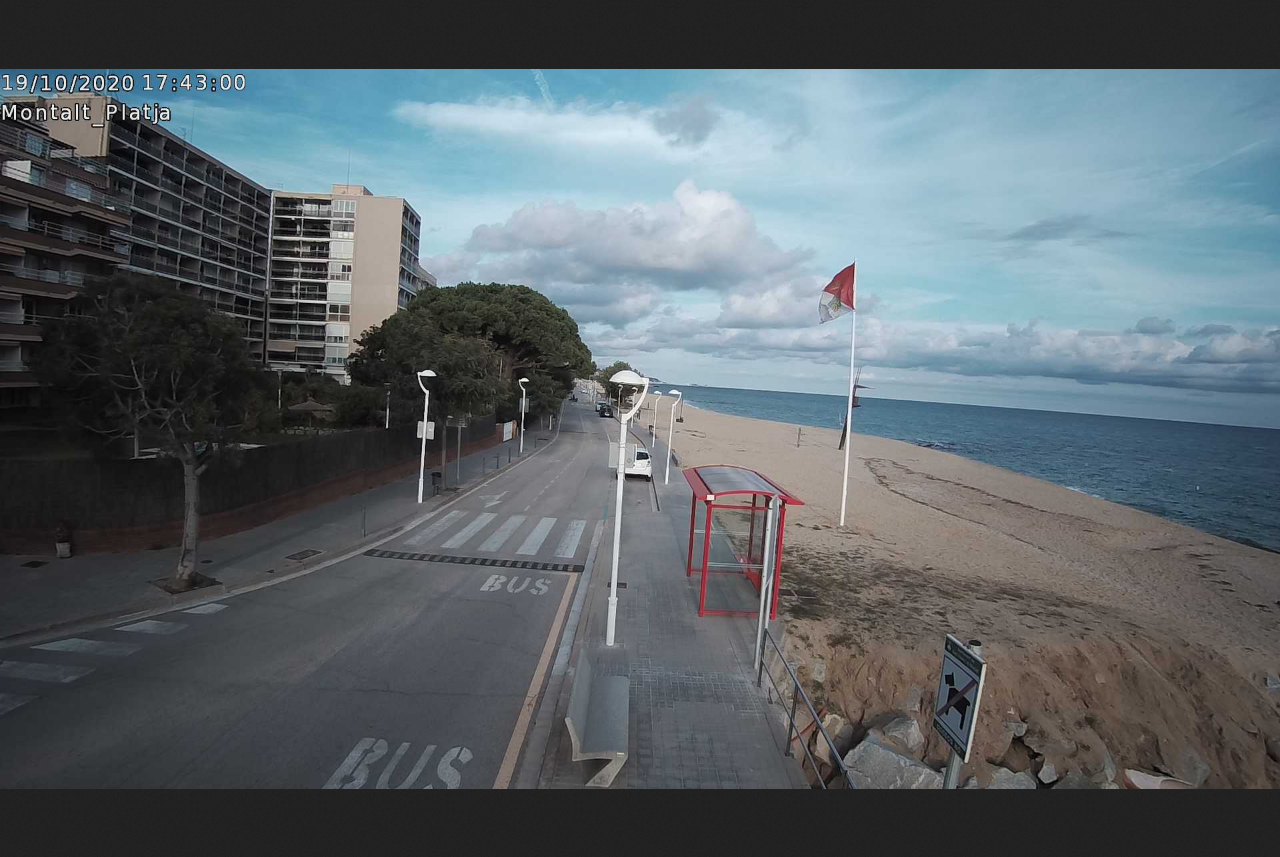maybe: (814, 257, 864, 326)
